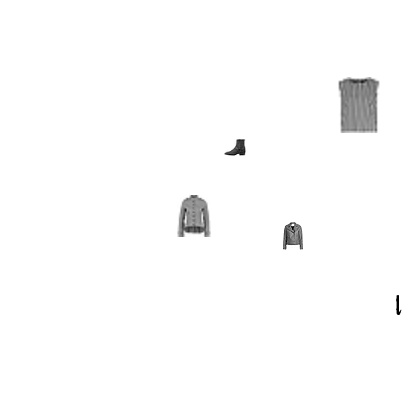1: (383, 291, 411, 319)
Ankle_boot: (224, 136, 246, 158)
Coat: (173, 195, 215, 237), (279, 222, 307, 250)
Shirt: (331, 77, 387, 133)
